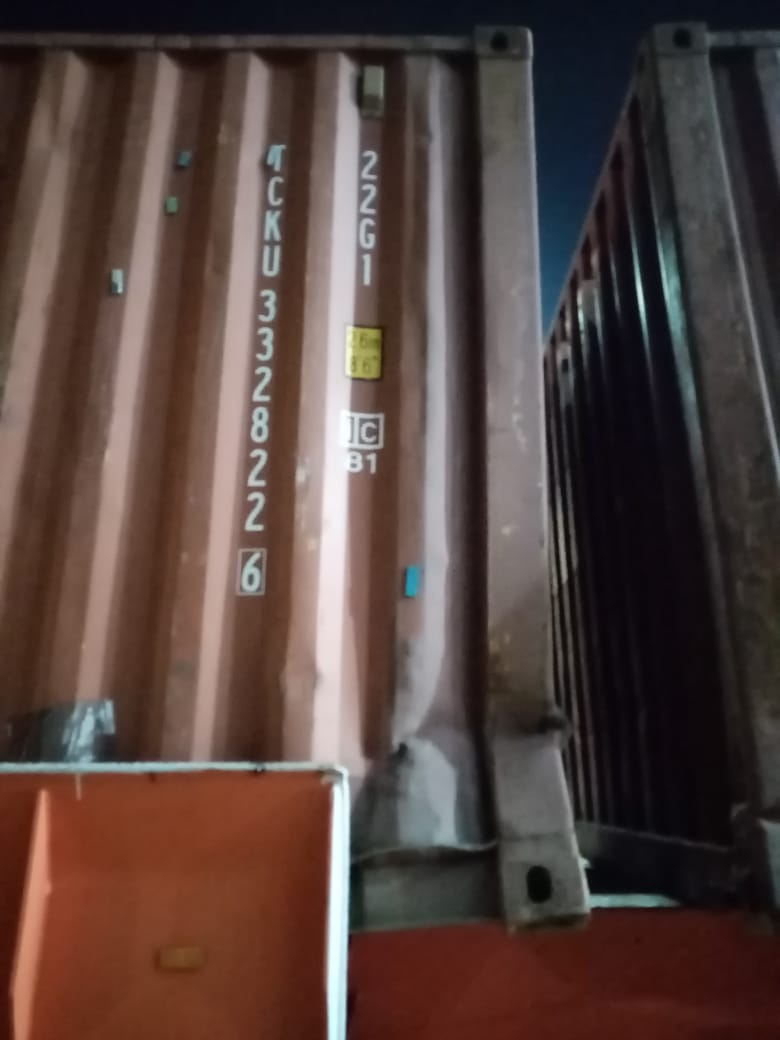moderate: (313, 575, 591, 872)
